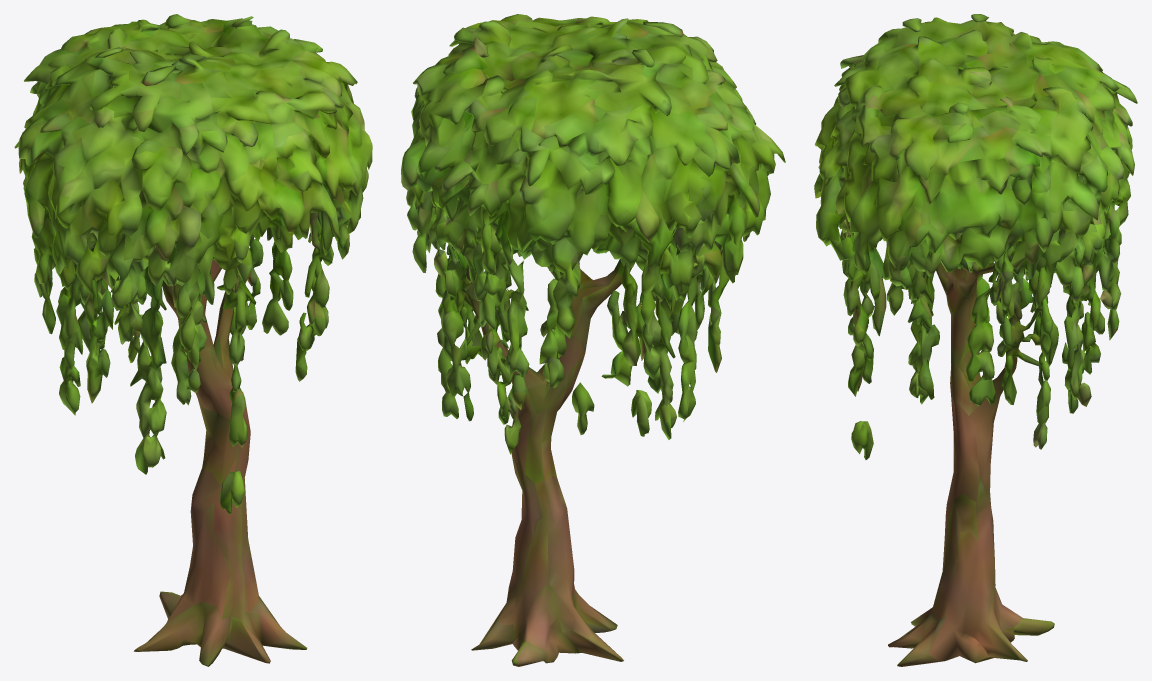
File: willow.glb
3 renders of one model, left to right at view 1: azimuth 30°, elevation 25°; view 2: azimuth 150°, elevation 25°; view 3: azimuth 270°, elevation 25°, orthographic. The views are drawn at different scales.
Bounding box in the file's own units: 1.11 × 2 × 1.01.
1 material, 1 textured.
